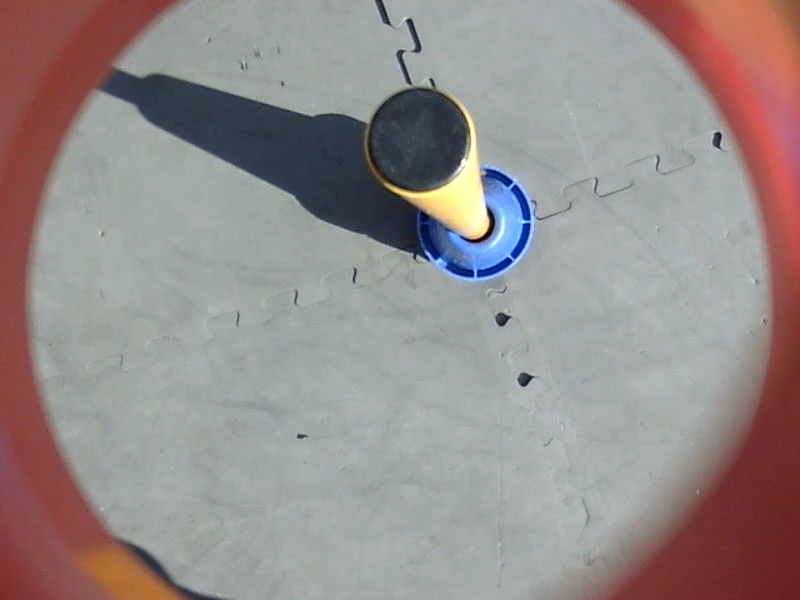tip: (359, 83, 477, 198)
